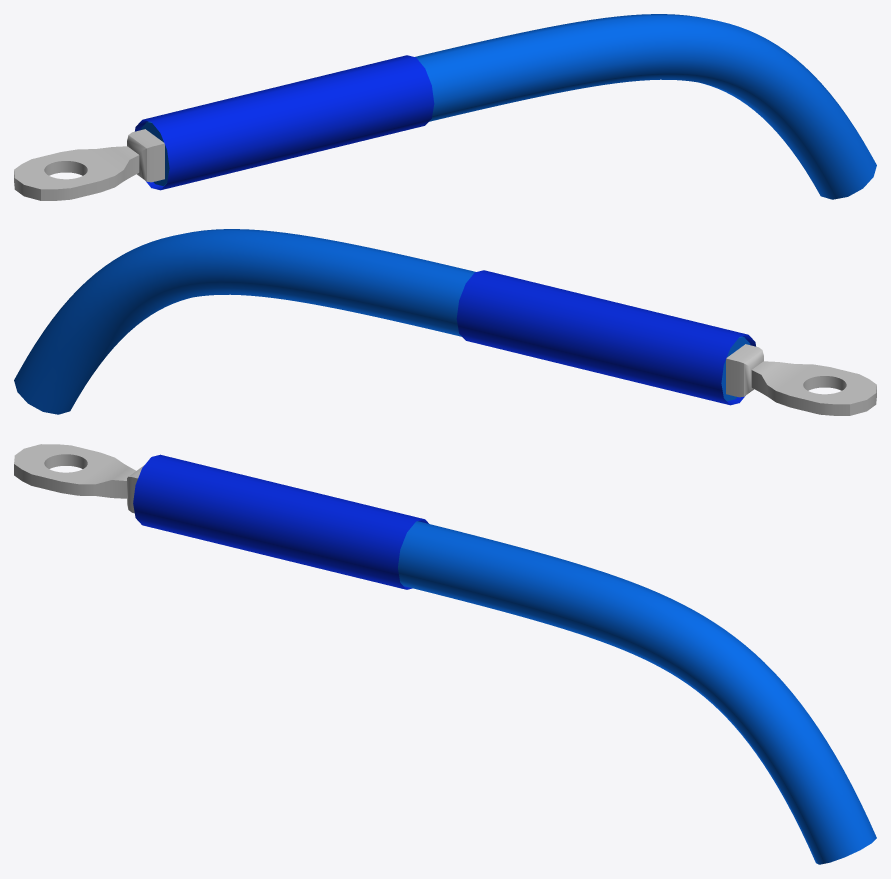
File: LVDS Scun Biru.fbx
3 views of the same model, one above another, from view 1: azimuth 30°, elevation 25°; view 2: azimuth 150°, elevation 25°; view 3: azimuth 330°, elevation 25° (orthographic).
Parts seen in each view (by area): view 1: NurbsPath.005, NurbsPath.004, Cube.005; view 2: NurbsPath.005, NurbsPath.004, Cube.005; view 3: NurbsPath.005, NurbsPath.004, Cube.005.
Boxes of the visible parts, left/top/right/bottom form: NurbsPath.005: left=140, top=14, right=876, bottom=199; NurbsPath.004: left=135, top=55, right=434, bottom=190; Cube.005: left=14, top=129, right=164, bottom=200; NurbsPath.005: left=14, top=229, right=750, bottom=414; NurbsPath.004: left=456, top=270, right=755, bottom=405; Cube.005: left=726, top=344, right=876, bottom=415; NurbsPath.005: left=398, top=521, right=876, bottom=864; NurbsPath.004: left=133, top=454, right=428, bottom=589; Cube.005: left=14, top=444, right=144, bottom=513.
Size of the model in its own units: 12.33 by 3.28 by 0.9904.
